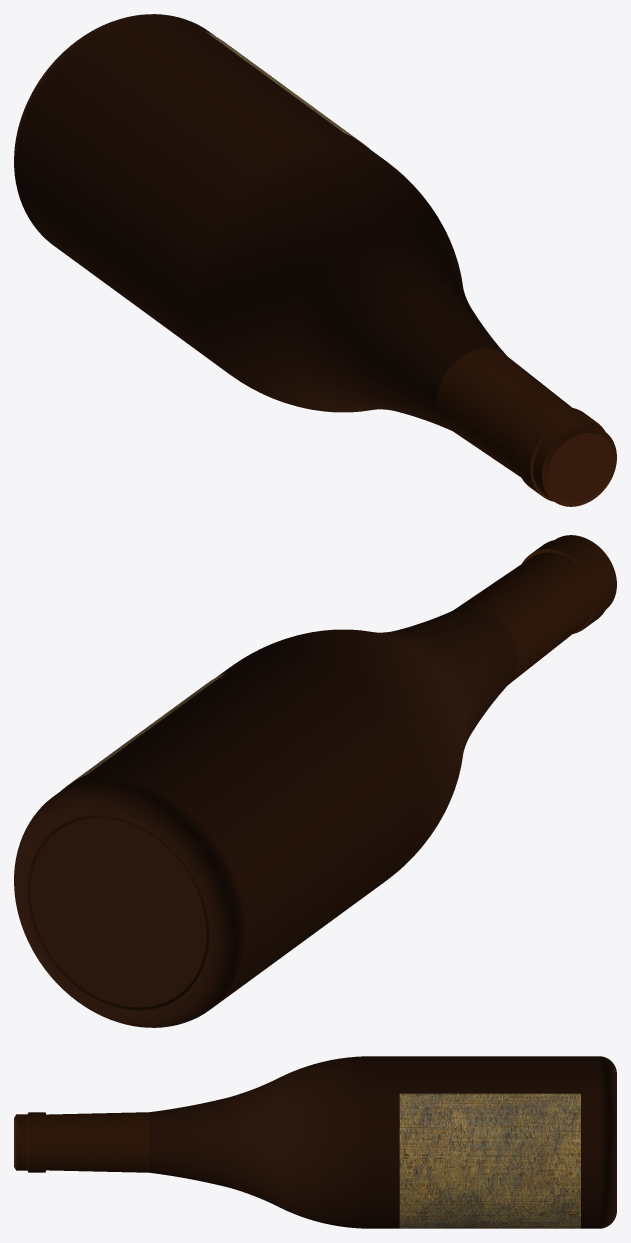
File: model_align.obj
The picture shows the model from 3 angles, top to bottom: view 1: azimuth 30°, elevation 25°; view 2: azimuth 150°, elevation 25°; view 3: azimuth 270°, elevation 25°; orthographic projection. The views are drawn at different scales.
Parts seen in each view (by area): view 1: mesh1_mesh1-geometry; view 2: mesh1_mesh1-geometry, mesh2_mesh2-geometry; view 3: mesh1_mesh1-geometry, mesh77_mesh77-geometry.
Boxes of the visible parts, left/top/right/bottom form: mesh1_mesh1-geometry: left=14, top=14, right=616, bottom=506; mesh1_mesh1-geometry: left=14, top=535, right=616, bottom=1027; mesh2_mesh2-geometry: left=30, top=818, right=206, bottom=1007; mesh1_mesh1-geometry: left=14, top=1056, right=616, bottom=1228; mesh77_mesh77-geometry: left=399, top=1093, right=580, bottom=1228.
Size of the model in its own units: 0.0427 by 0.0426 by 0.1489.
